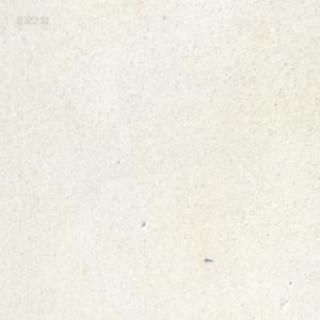Nailtrack_idkeyframe: (204, 255, 212, 262)
